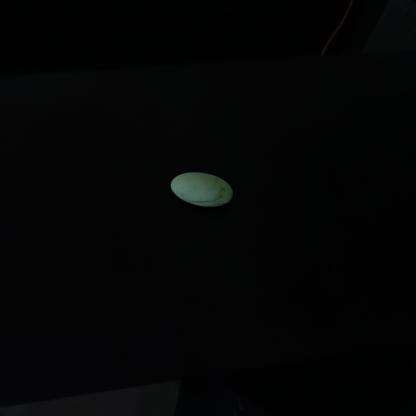egg: (152, 162, 242, 214)
